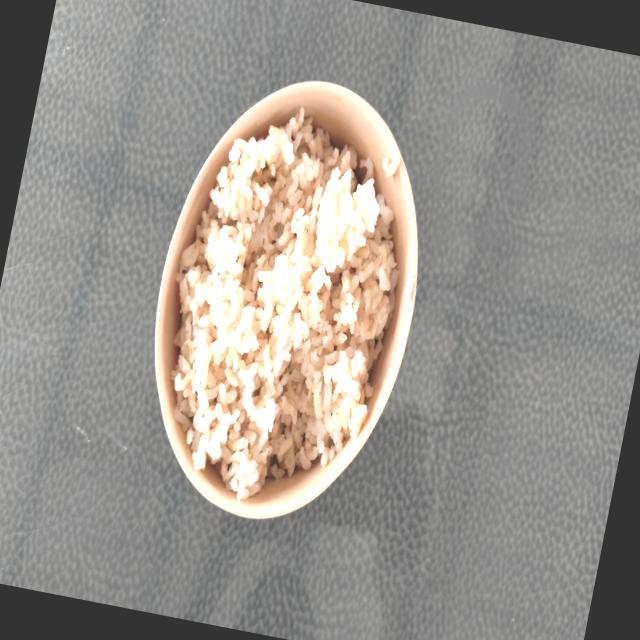brown-rice: (173, 108, 398, 500)
